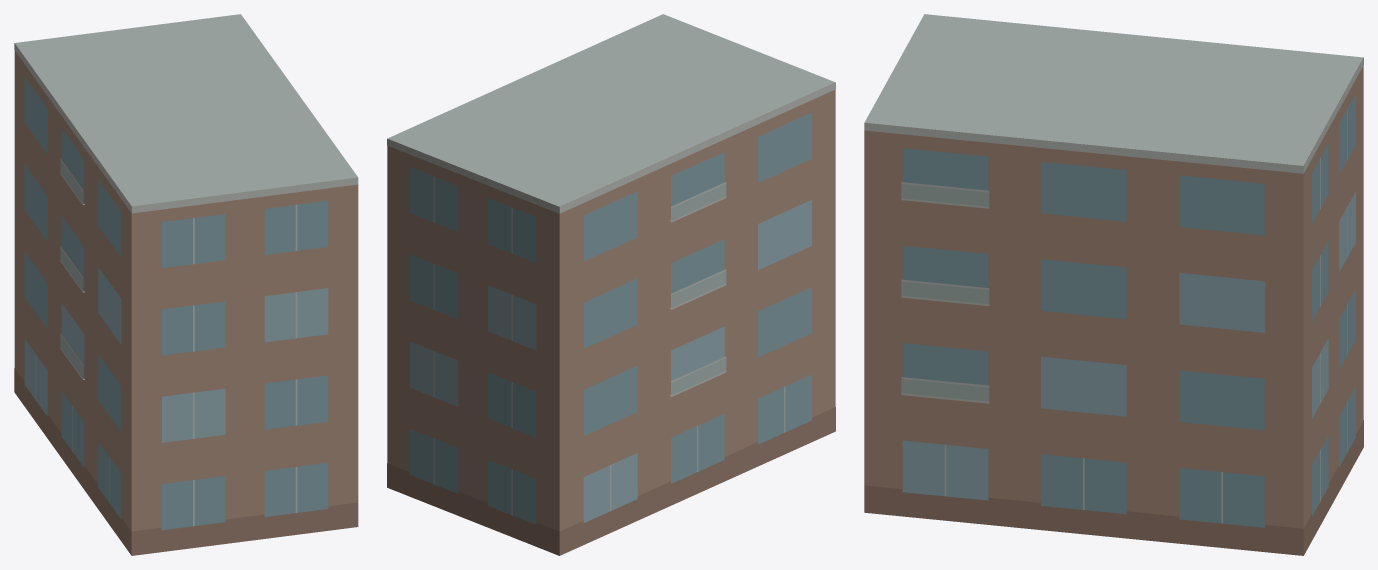
Rendered from residential-e7cf1e70-9102-40b3-9dc6-34096f437ab6.glb.
3 views of the same model, side by side, from view 1: azimuth 30°, elevation 25°; view 2: azimuth 150°, elevation 25°; view 3: azimuth 270°, elevation 25° (orthographic). The views are drawn at different scales.
Visible parts, largest first — view 1: residential-e7cf1e70-9102-40b3-9dc6-34096f437ab6.tmp; view 2: residential-e7cf1e70-9102-40b3-9dc6-34096f437ab6.tmp; view 3: residential-e7cf1e70-9102-40b3-9dc6-34096f437ab6.tmp.
Part boxes in pixels (<box>): residential-e7cf1e70-9102-40b3-9dc6-34096f437ab6.tmp: <box>14,14,358,555</box>; residential-e7cf1e70-9102-40b3-9dc6-34096f437ab6.tmp: <box>387,14,835,555</box>; residential-e7cf1e70-9102-40b3-9dc6-34096f437ab6.tmp: <box>864,14,1363,555</box>.
Size of the model in its own units: 10.21 by 12.2 by 14.17.
